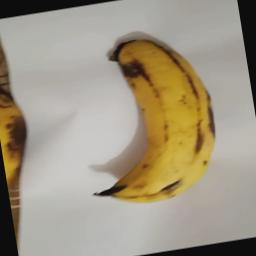Banana Unripe: (70, 28, 228, 216)
